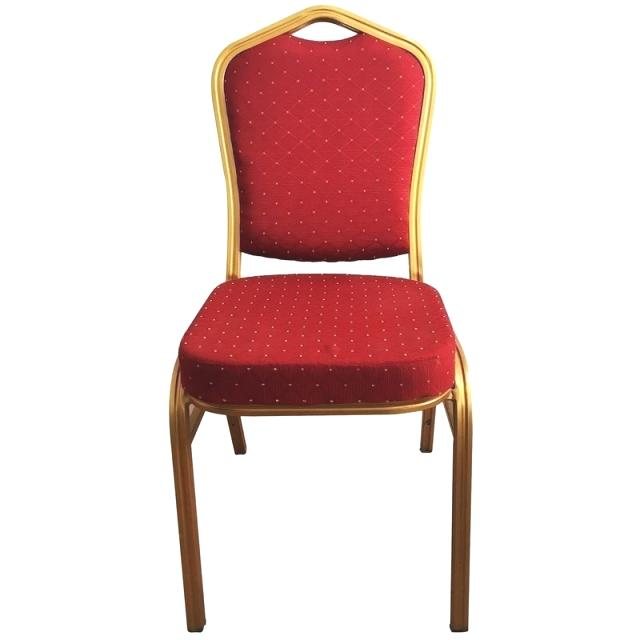Chair: (166, 4, 481, 637)
